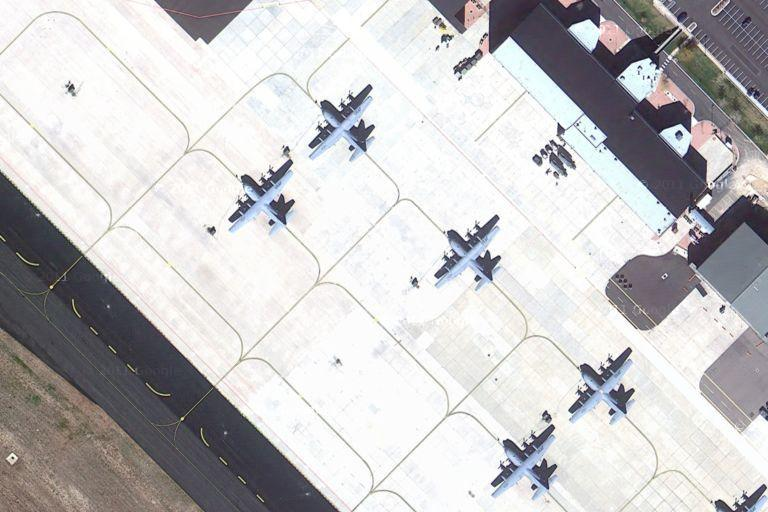C-130: (488, 422, 557, 505), (227, 164, 303, 237), (433, 217, 504, 291), (309, 92, 379, 167), (569, 354, 639, 429)
